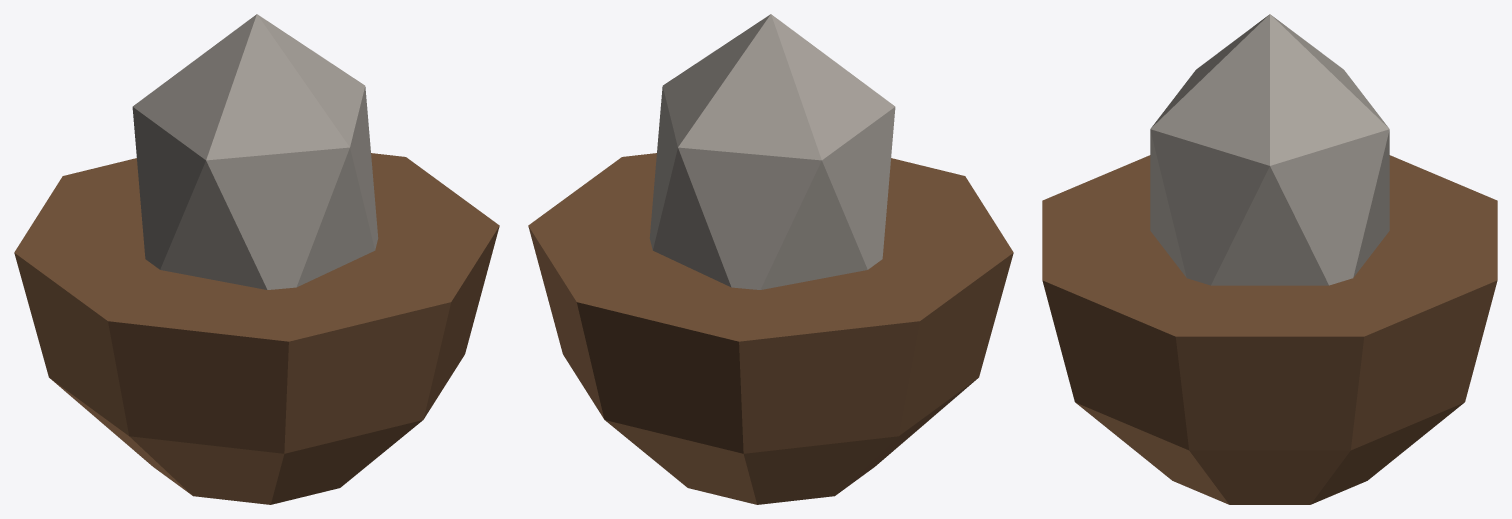
The model's file is gear_bowl.glb.
3 views of the same model, side by side, from view 1: azimuth 30°, elevation 25°; view 2: azimuth 150°, elevation 25°; view 3: azimuth 270°, elevation 25° (orthographic).
Visible parts, largest first — view 1: gear_bowl; view 2: gear_bowl; view 3: gear_bowl.
Part boxes in pixels (bbox=[...]): gear_bowl: bbox=[14, 14, 499, 504]; gear_bowl: bbox=[528, 14, 1013, 504]; gear_bowl: bbox=[1042, 14, 1497, 504].
Size of the model in its own units: 0.1552 by 0.1692 by 0.1552.
